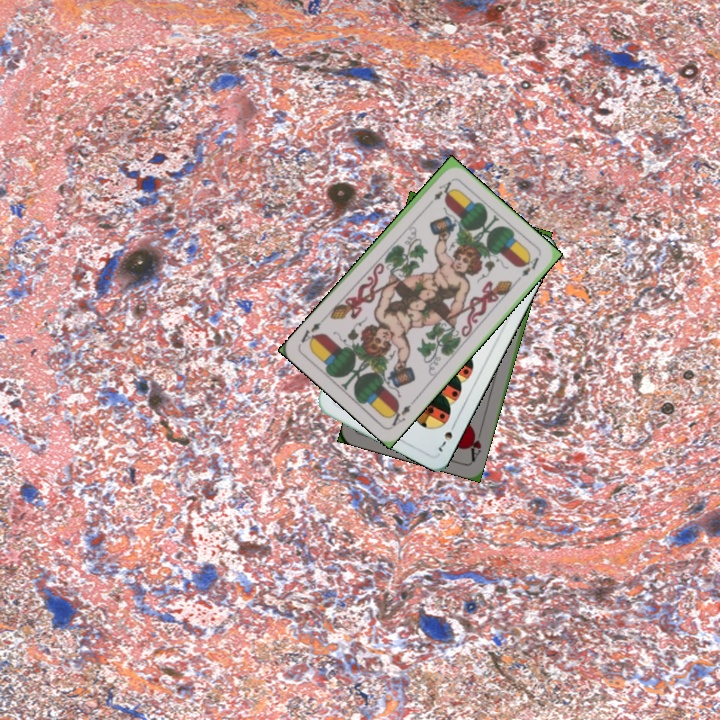EA: (385, 395, 418, 429), (424, 177, 454, 209)
HA: (465, 424, 485, 464)
S7: (434, 418, 459, 455)
